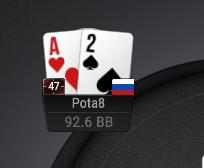2s: (80, 31, 133, 93)
Ah: (42, 29, 82, 94)
